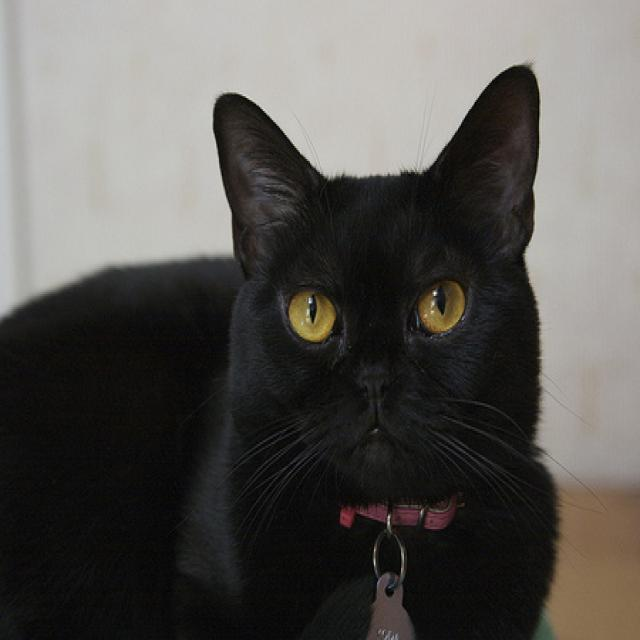Bombay: (0, 57, 565, 640)
